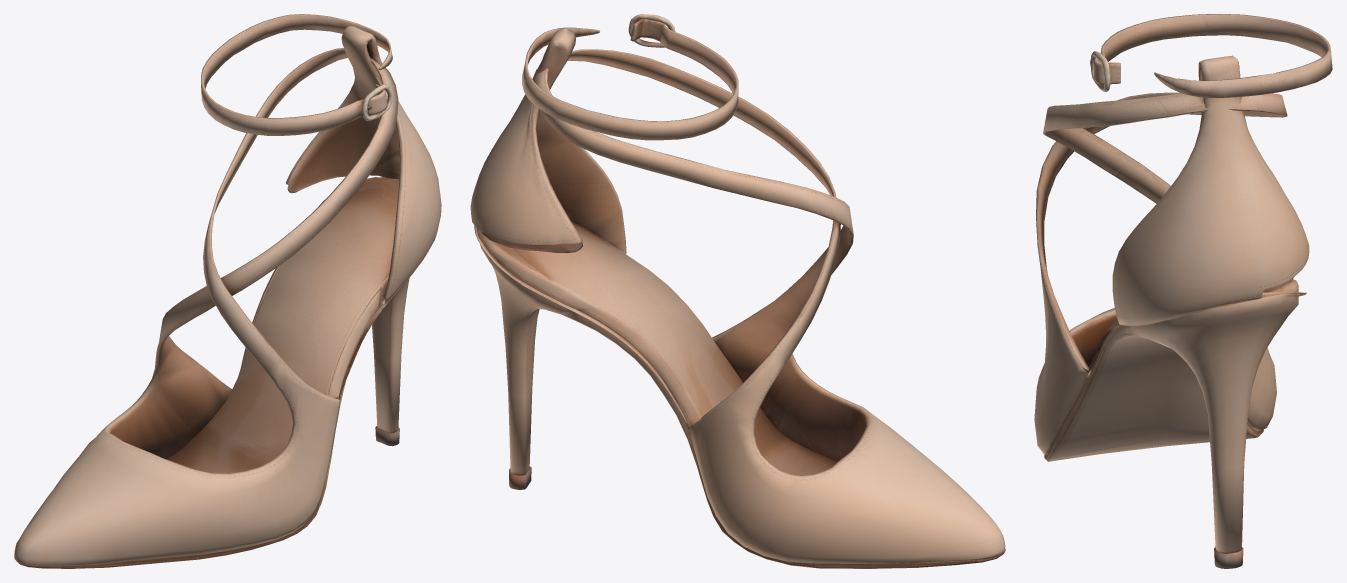
File: Nude-Crisscross-Stiletto-Retopo.fbx
3 renders of one model, left to right at view 1: azimuth 30°, elevation 25°; view 2: azimuth 150°, elevation 25°; view 3: azimuth 270°, elevation 25°, orthographic. The views are drawn at different scales.
Parts seen in each view (by area): view 1: Mesh; view 2: Mesh; view 3: Mesh.
Part boxes in pixels (x1,y1,x2,y2): Mesh: (14,14,441,568); Mesh: (470,14,1005,568); Mesh: (1034,14,1332,568).
Size of the model in its own units: 2 by 1.8 by 0.9987.
Materials: 1 (1 with a texture image).
